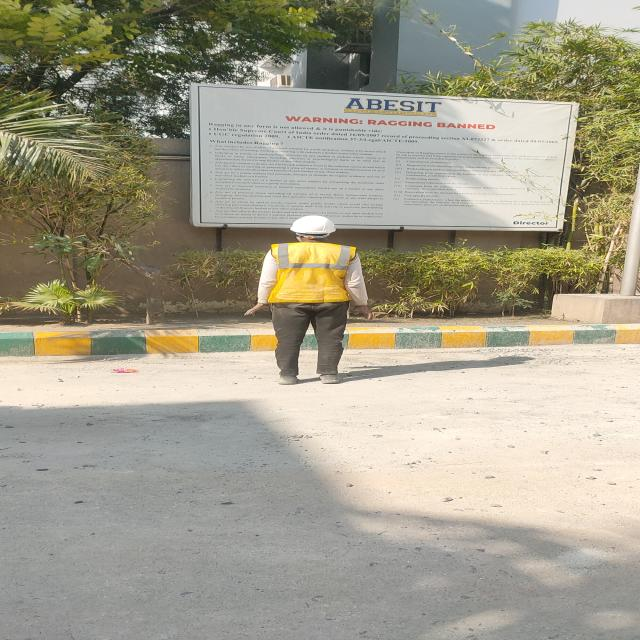safe: (258, 216, 367, 384)
